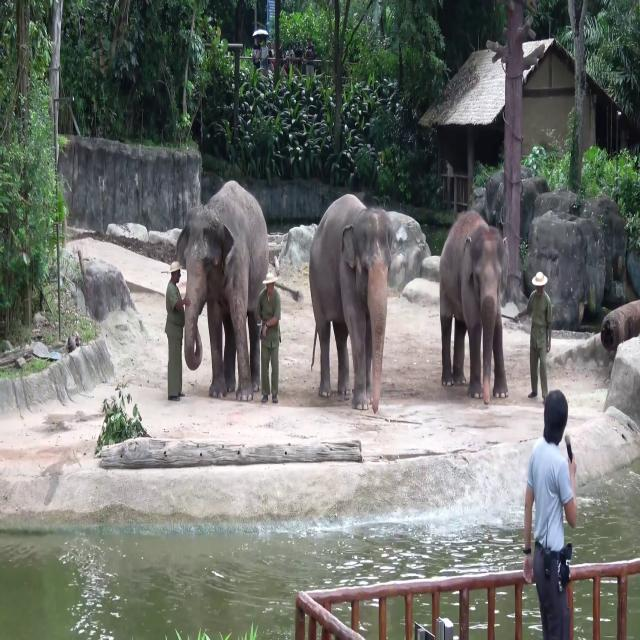Elephant: (174, 179, 269, 402), (310, 194, 392, 413), (439, 209, 510, 404)
person: (522, 390, 578, 640), (516, 271, 552, 403), (164, 260, 191, 401), (255, 272, 281, 403)
